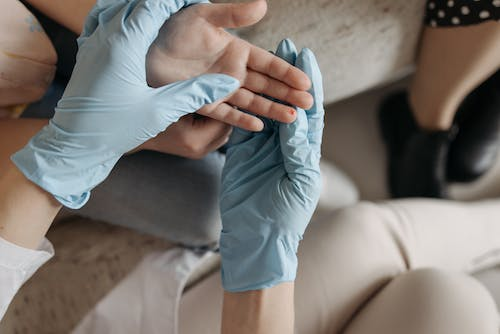blood: (285, 106, 296, 118)
